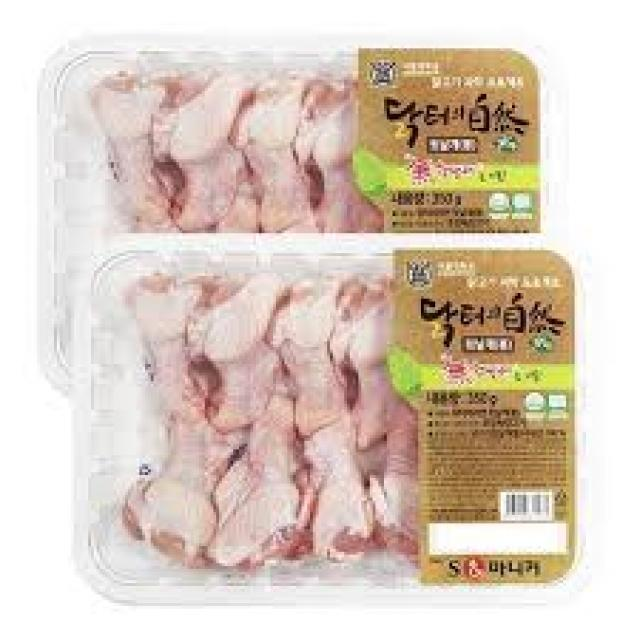chicken: (70, 240, 580, 600), (77, 49, 553, 232)
